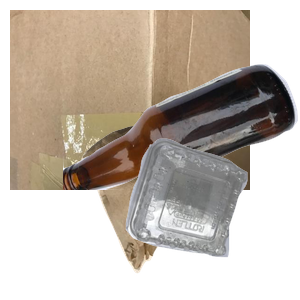cardboard: (10, 10, 250, 190)
glass: (63, 62, 300, 242)
plastic: (123, 136, 300, 300)
trash: (79, 123, 281, 300)
